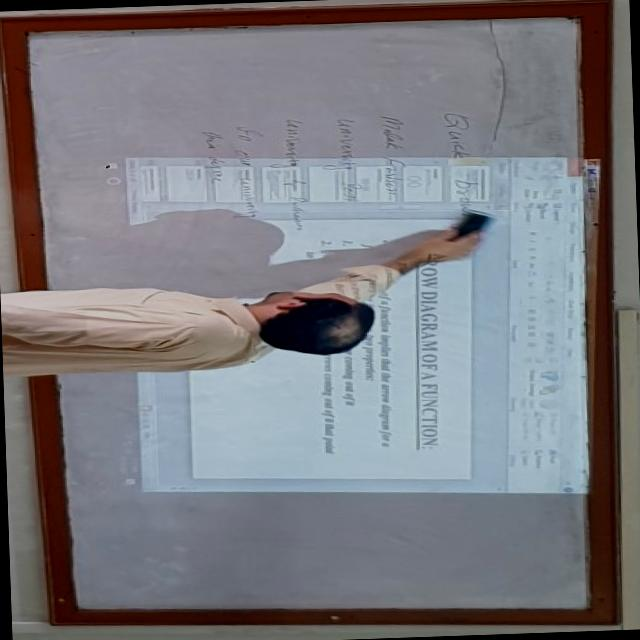Instructor: (0, 267, 397, 381)
Slide: (80, 157, 593, 495)
White-board: (10, 7, 607, 621)
